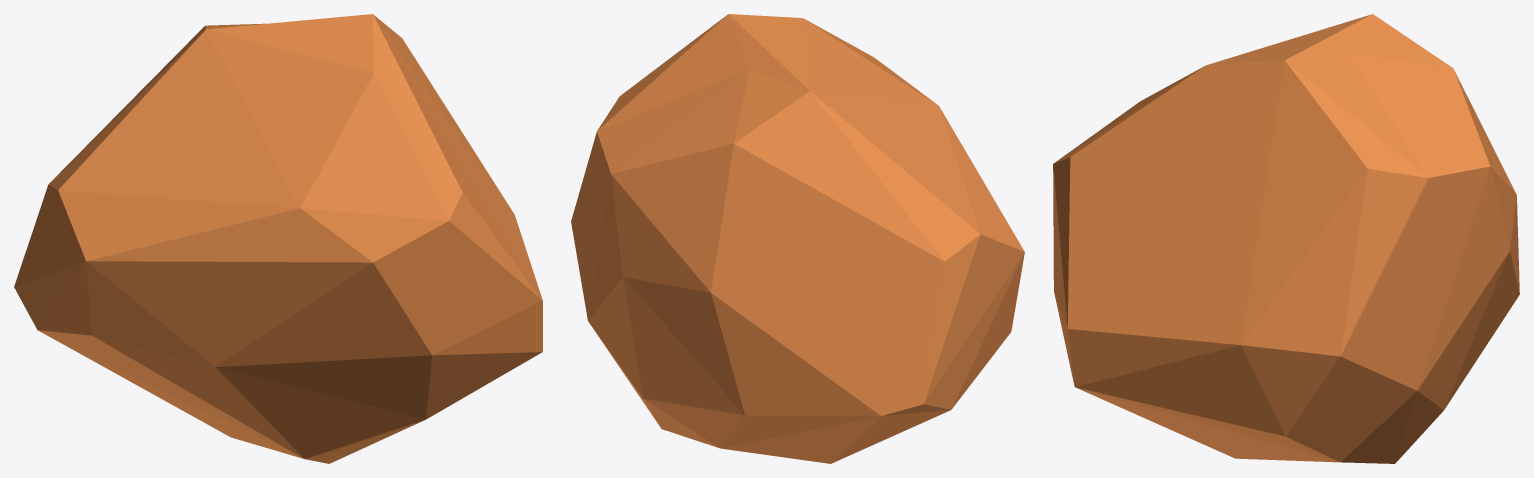
Rendered from Desert_Rock3 (1).fbx.
3 renders of one model, left to right at view 1: azimuth 30°, elevation 25°; view 2: azimuth 150°, elevation 25°; view 3: azimuth 270°, elevation 25°, orthographic. The views are drawn at different scales.
Parts seen in each view (by area): view 1: Sphere; view 2: Sphere; view 3: Sphere.
Part boxes in pixels (x1=…): Sphere: x1=14, y1=14, x2=542, y2=463; Sphere: x1=571, y1=14, x2=1024, y2=463; Sphere: x1=1053, y1=14, x2=1519, y2=463.
Bounding box in the file's own units: 145 × 136 × 134.
